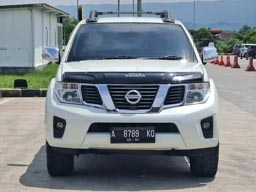plat: (111, 127, 155, 139)
